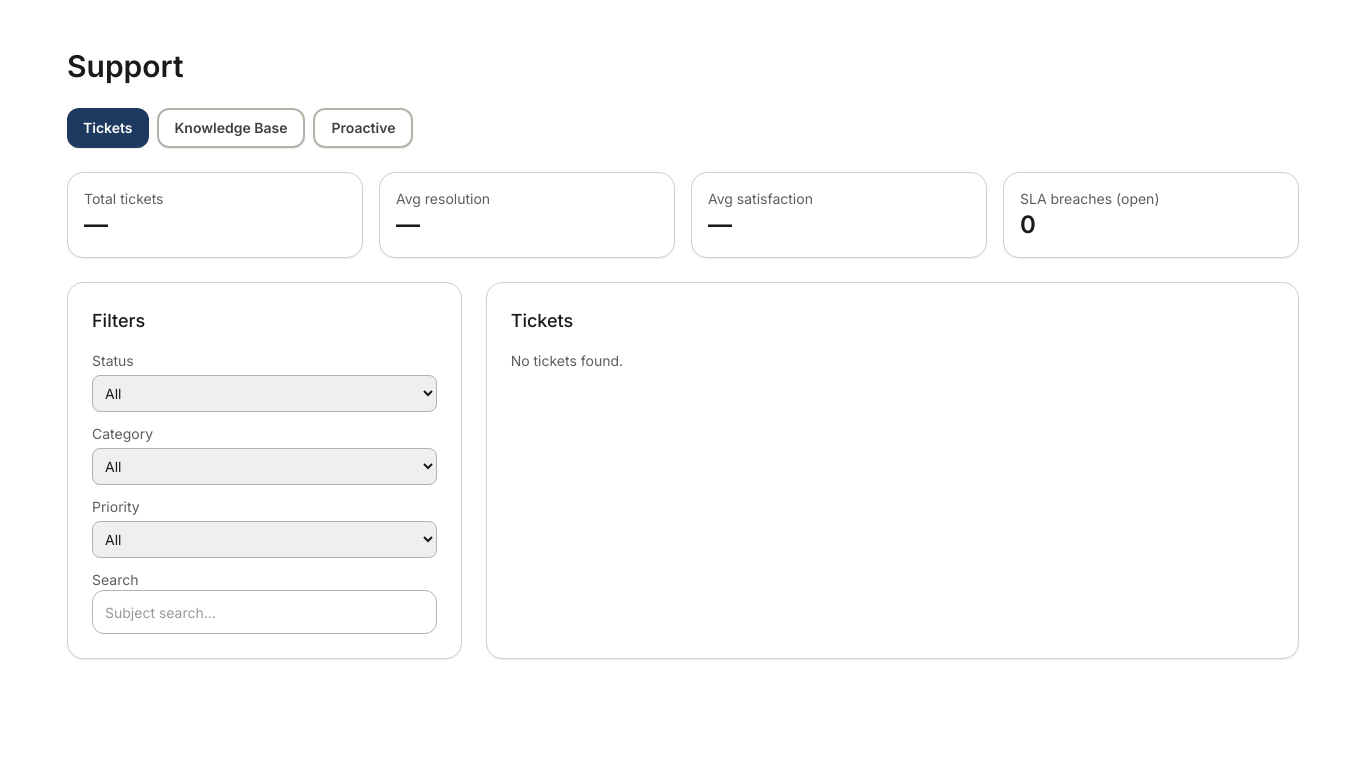
Test: SupportDashboard › normalizes raw backend intervention docs for the Proactive tab
Step 1. Click the tab "Proactive" → (364, 128), box [314,108,414,148]
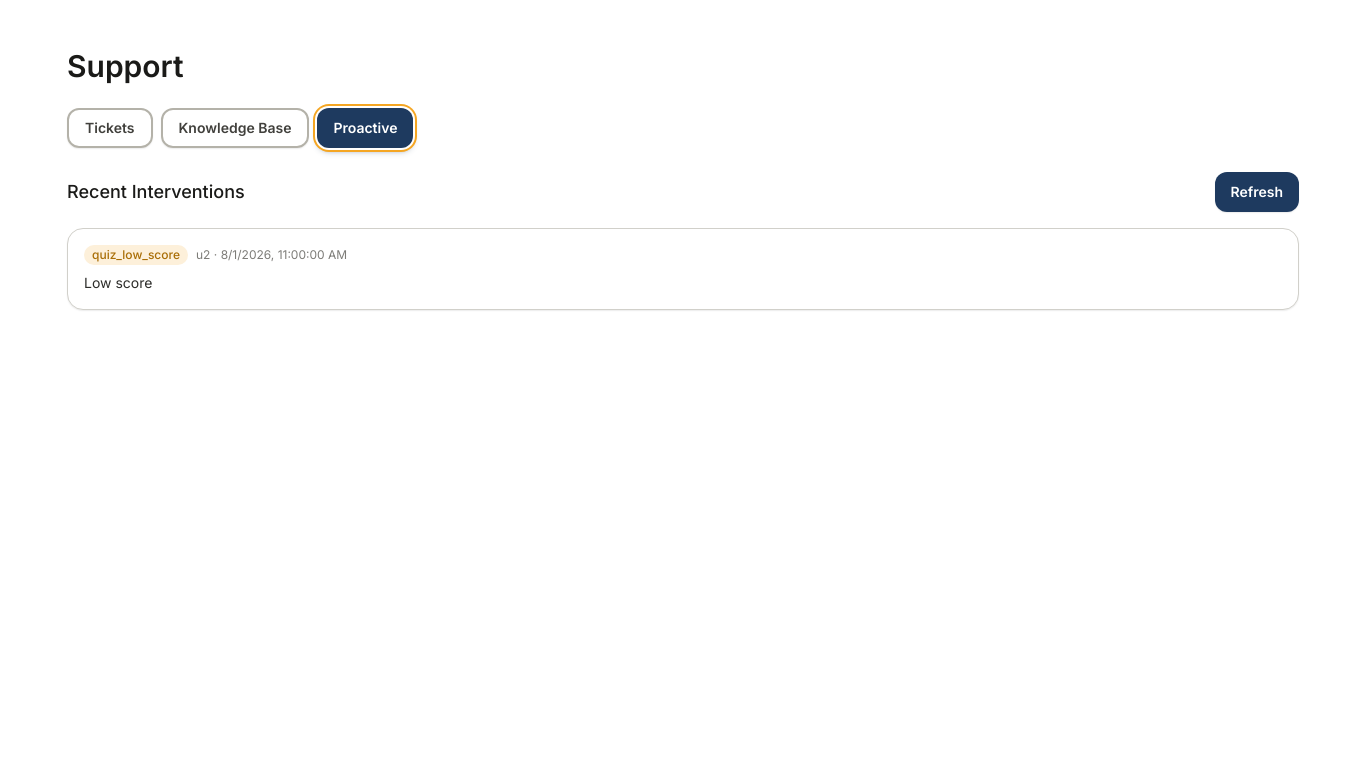
Expected: the text "quiz_low_score" is shown, [84,245,188,265]
Expected: the text "Low score" is shown, [84,274,152,291]
